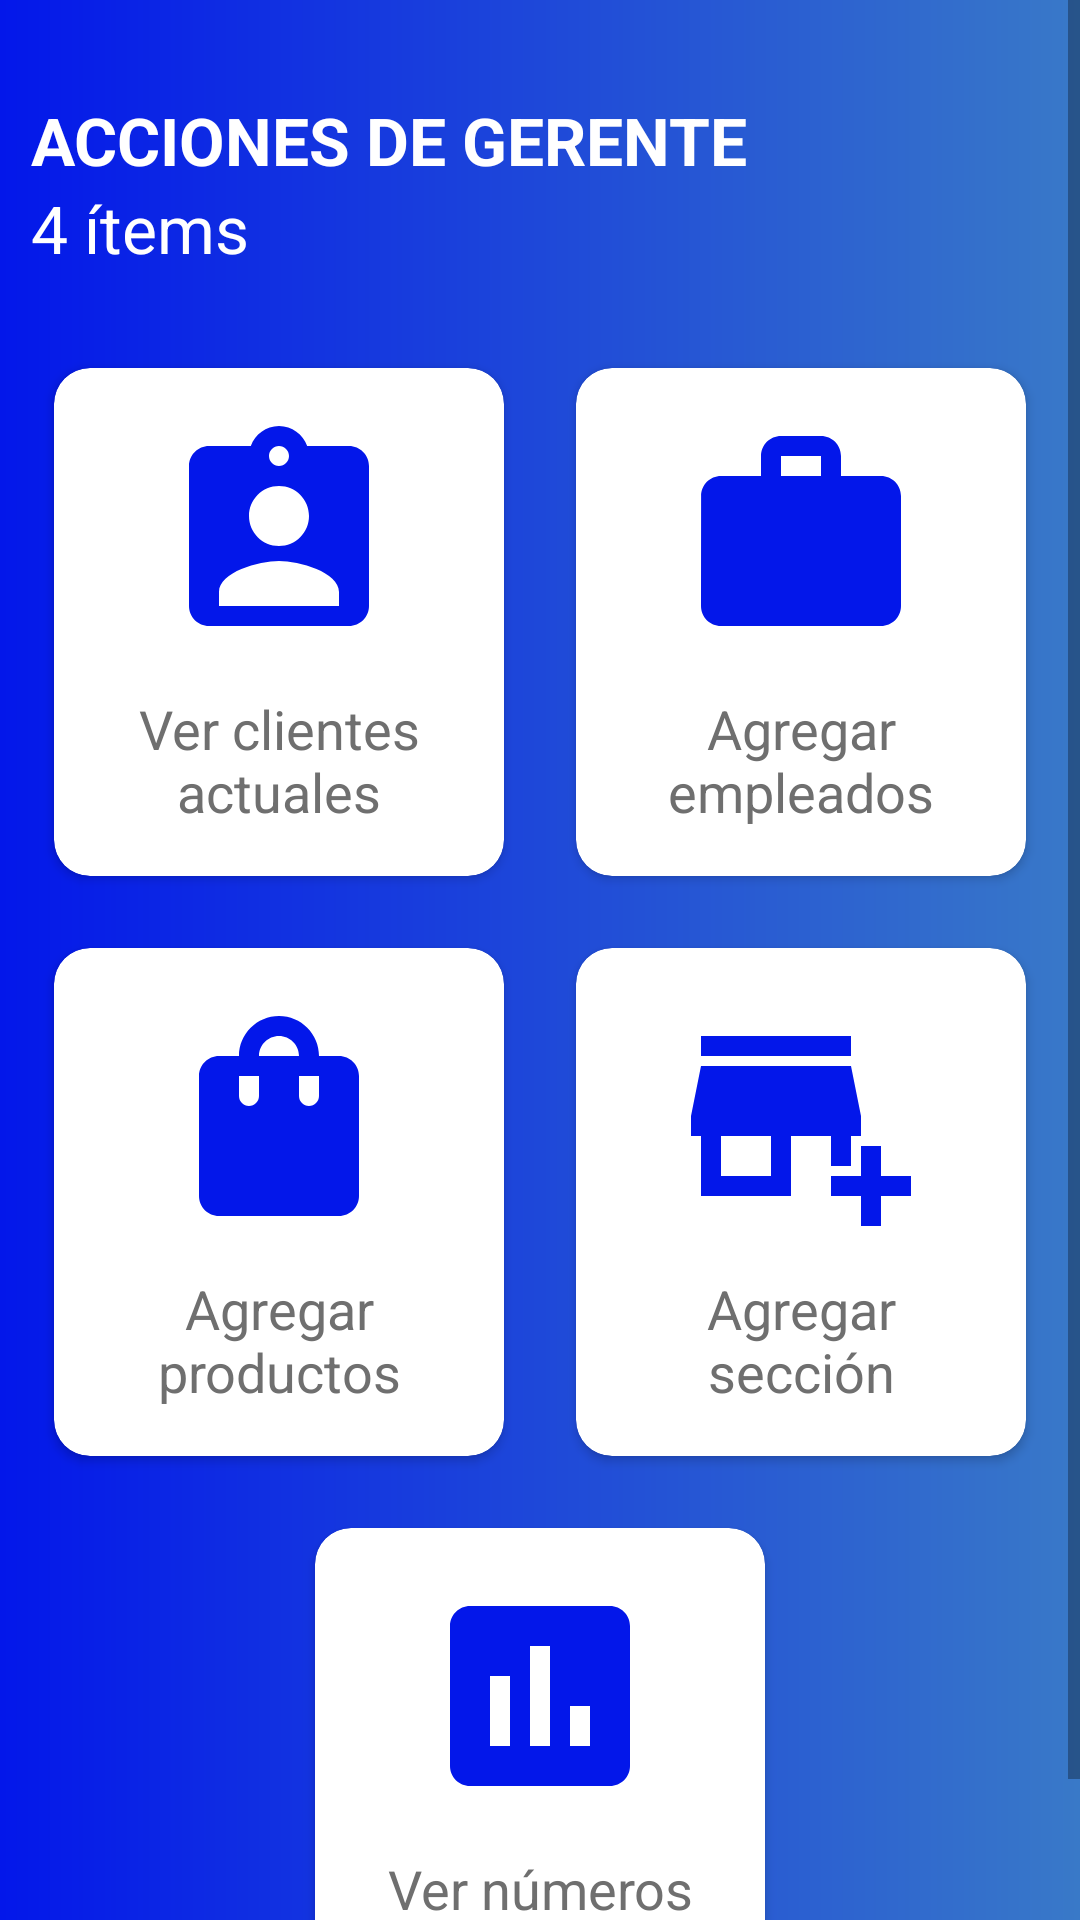

Icons on this 1080px x 1920px Android screen, each with its box as (x1, y1, x2, y2):
empleado quickcellar: (701, 436, 901, 626)
estadisticas quickcellar: (450, 1606, 630, 1786)
nombre quickcellar: (189, 426, 369, 626)
producto quickcellar: (199, 1016, 359, 1216)
seccion quickcellar: (691, 1036, 911, 1226)
